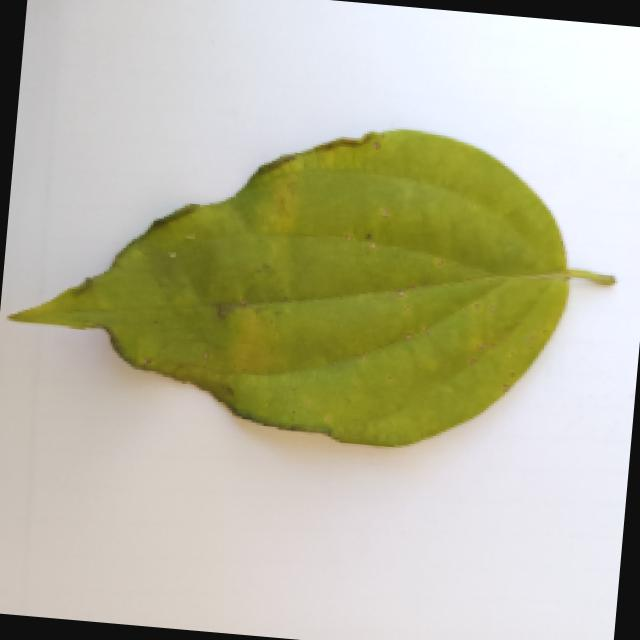slow-decline: (6, 90, 640, 486)
